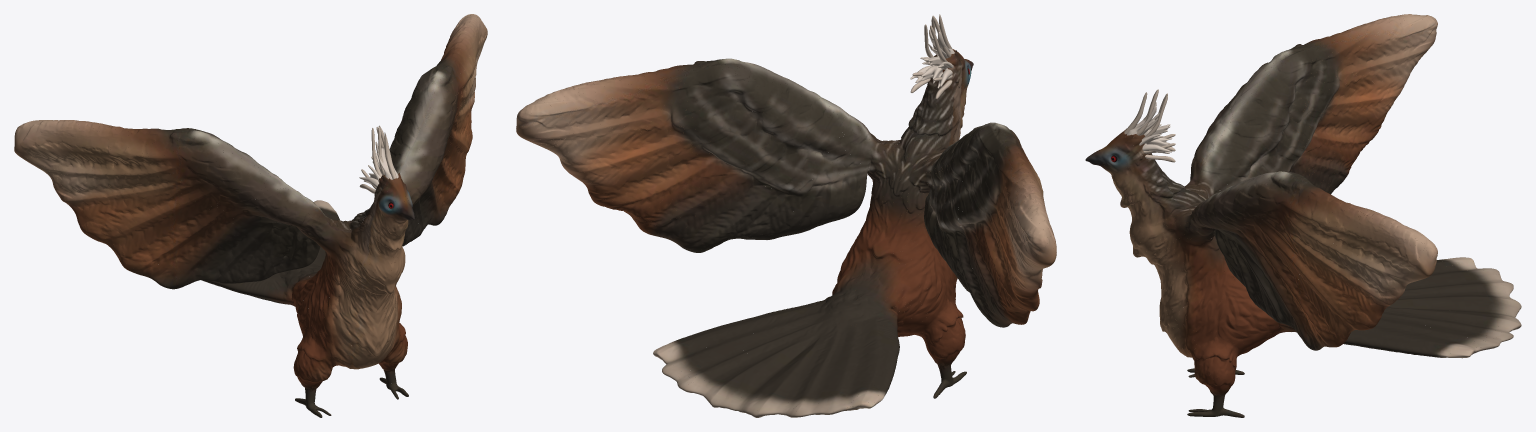
File: hoatzin.glb
The picture shows the model from 3 angles, left to right: view 1: azimuth 30°, elevation 25°; view 2: azimuth 150°, elevation 25°; view 3: azimuth 270°, elevation 25°; orthographic projection. The views are drawn at different scales.
Parts seen in each view (by area): view 1: Object_7, Object_9, Object_10, Object_8, Object_11, Object_12, Object_3, Object_5; view 2: Object_10, Object_8, Object_9, Object_7, Object_11, Object_12, Object_3, Object_5; view 3: Object_9, Object_7, Object_10, Object_8, Object_11, Object_12, Object_3, Object_5.
Part boxes in pixels (<box>): Object_7: <box>21,14,480,411</box>; Object_9: <box>14,15,484,404</box>; Object_10: <box>20,18,487,415</box>; Object_8: <box>14,14,477,417</box>; Object_11: <box>15,14,486,417</box>; Object_12: <box>14,15,484,414</box>; Object_3: <box>359,125,396,193</box>; Object_5: <box>359,141,398,187</box>; Object_10: <box>516,49,1055,417</box>; Object_8: <box>526,60,1056,417</box>; Object_9: <box>517,51,1056,412</box>; Object_7: <box>525,52,1051,417</box>; Object_11: <box>517,52,1056,417</box>; Object_12: <box>517,52,1056,415</box>; Object_3: <box>910,14,952,99</box>; Object_5: <box>910,29,954,88</box>; Object_9: <box>1085,14,1496,413</box>; Object_7: <box>1085,31,1521,417</box>; Object_10: <box>1109,14,1514,416</box>; Object_8: <box>1089,15,1521,411</box>; Object_11: <box>1092,14,1520,417</box>; Object_12: <box>1092,14,1518,416</box>; Object_3: <box>1124,89,1175,162</box>; Object_5: <box>1126,102,1172,153</box>.
Size of the model in its own units: 4.54 by 2.72 by 3.5.
Materials: 4 (4 with a texture image).
